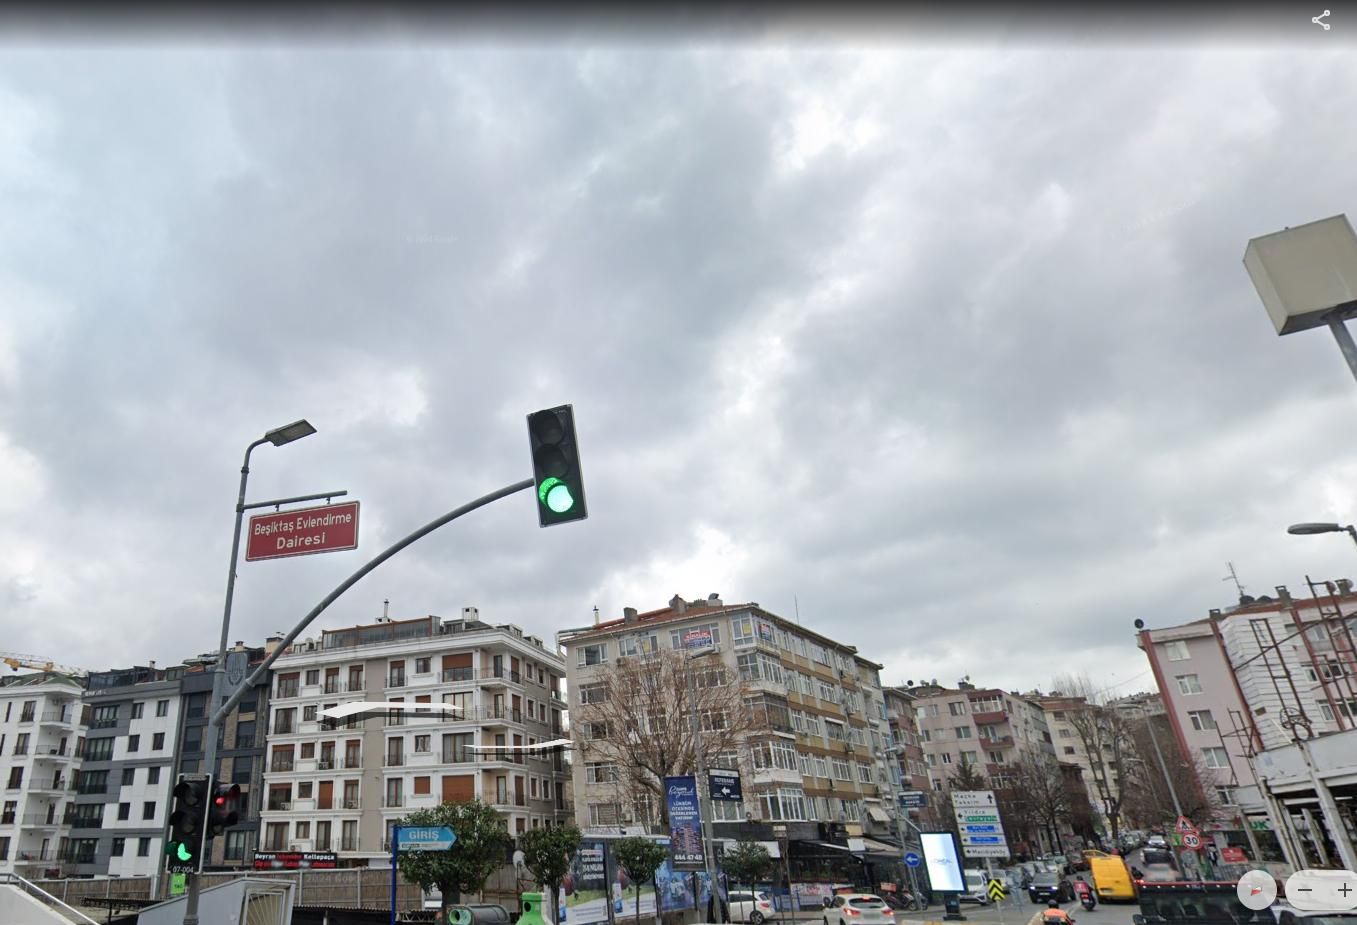greenlight: (526, 407, 589, 517), (171, 779, 207, 863)
